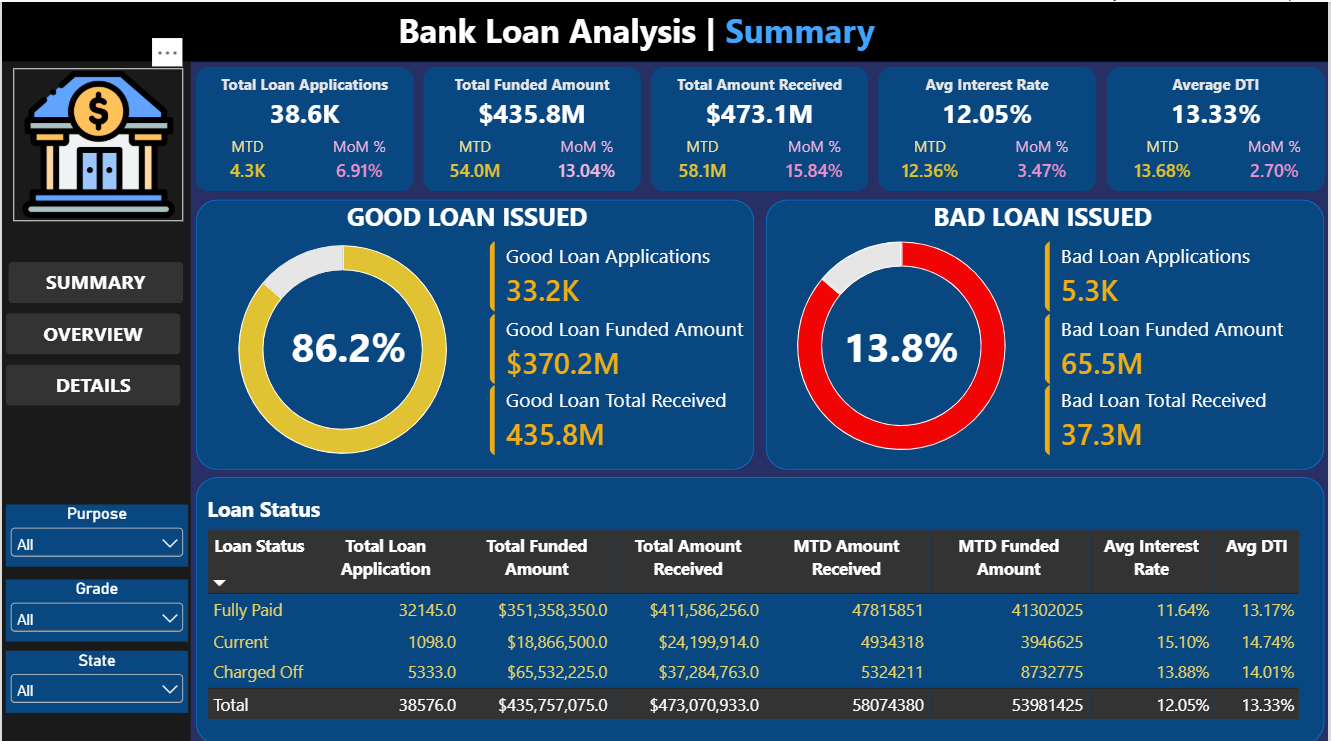

The page's visual inventory and layout, read from the dashboard file:
{"tool":"powerbi","page":{"name":"Summary","canvas":[1280,720],"ordinal":0},"visuals":[{"type":"shape","box":[0,0,1280.3,57.6],"z":0},{"type":"textbox","box":[382.4,4.8,639.4,48.3],"z":1000},{"type":"shape","box":[0,57.9,182.2,662.3],"z":2000},{"type":"cardVisual","title":"Total Loan Applications","fields":{"Data":["Date Table.Total Loan Application"]},"box":[187,63,210,120],"z":3000},{"type":"cardVisual","title":"Total Loan Applications","fields":{"Data":["Date Table.Total Funded Amount"]},"box":[407,63,210,120],"z":4000},{"type":"cardVisual","title":"Total Loan Applications","fields":{"Data":["Date Table.Average DTI"]},"box":[1067,63,210,120],"z":5000},{"type":"cardVisual","title":"Total Loan Applications","fields":{"Data":["Date Table.Avg Interest Rate"]},"box":[846,63,210,120],"z":6000},{"type":"cardVisual","title":"Total Loan Applications","fields":{"Data":["Date Table.Total Amount Received"]},"box":[626,63,210,120],"z":7000},{"type":"cardVisual","fields":{"Data":["Date Table.MTD Loan Applications","Date Table.Applications MoM %"]},"box":[187,123.1,209.9,57.9],"z":8000},{"type":"cardVisual","fields":{"Data":["Date Table.MTD Funded Amount","Date Table.Funded Amount MoM %"]},"box":[406.6,123.1,209.9,57.9],"z":9000},{"type":"cardVisual","fields":{"Data":["Date Table.MTD Amount Received","Date Table.Amount Received MoM %"]},"box":[626.1,123.1,209.9,57.9],"z":10000},{"type":"cardVisual","fields":{"Data":["Date Table.MTD Average Interest Rate","Date Table.Interest Rate MoM %"]},"box":[845.7,123.1,209.9,57.9],"z":11000},{"type":"cardVisual","fields":{"Data":["Date Table.MTD Average DTI","Date Table.DTI MoM %"]},"box":[1070.1,123.1,209.9,57.9],"z":12000},{"type":"shape","box":[187,190.6,539,261],"z":13000},{"type":"shape","box":[737.1,190.6,539,261],"z":14000},{"type":"textbox","box":[333,190.6,246.1,39.8],"z":15000},{"type":"donutChart","fields":{"Category":["Good Loan Donut.Category"],"Y":["Good Loan Donut.Good Loan Donut Value"]},"box":[187,194.2,283.5,283.5],"z":16000},{"type":"cardVisual","fields":{"Data":["Date Table.Good Loan %"]},"box":[243,273,184.6,118.2],"z":17000},{"type":"cardVisual","fields":{"Data":["Date Table.Good Loan Funded Amount"]},"box":[470.5,300.4,270.2,69],"z":18000},{"type":"cardVisual","fields":{"Data":["Date Table.Good Loan Applications"]},"box":[470.9,231,270.2,69],"z":19000},{"type":"cardVisual","fields":{"Data":["Date Table.Good Loan Total Received"]},"box":[470.5,369.2,270.2,69],"z":20000},{"type":"textbox","box":[898.8,190.6,246.1,39.8],"z":21000},{"type":"donutChart","fields":{"Category":["Bad Loan Donut.Category"],"Y":["Bad Loan Donut.Bad Loan Donut Value"]},"box":[726.3,190.6,283.5,283.5],"z":22000},{"type":"cardVisual","fields":{"Data":["Date Table.Bad Loan %"]},"box":[775.7,273,184.6,118.2],"z":23000},{"type":"cardVisual","fields":{"Data":["Date Table.Bad Loan Total Received"]},"box":[1006.2,369.2,270.2,69],"z":24000},{"type":"cardVisual","fields":{"Data":["Date Table.Bad Loan Funded Amount"]},"box":[1006.2,300,270.2,69],"z":25000},{"type":"cardVisual","fields":{"Data":["Date Table.Bad Loan Applications"]},"box":[1006.2,231,270.2,69],"z":26000},{"type":"shape","box":[187,458.4,1089.4,258],"z":27000},{"type":"tableEx","title":"Loan Status","fields":{"Values":["public financial_loan.loan_status","Date Table.Total Loan Application","Date Table.Total Funded Amount","Date Table.Total Amount Received","public financial_loan.Total MTD Amount Received","public financial_loan.Total MTD Funded Amount","Date Table.Avg Interest Rate","Date Table.Average DTI"]},"box":[182.2,460.9,1089.4,252.1],"z":28000},{"type":"actionButton","title":"SUMMARY","box":[6.3,250.7,168.9,39.8],"z":29000},{"type":"slicer","title":"Purpose","fields":{"Values":["public financial_loan.purpose"]},"box":[3.6,484.5,176.1,60.3],"z":30000},{"type":"slicer","title":"Grade","fields":{"Values":["public financial_loan.grade"]},"box":[3.6,557.4,176.1,60.3],"z":31000},{"type":"slicer","title":"State","fields":{"Values":["public financial_loan.address_state"]},"box":[3.6,626.1,176.1,60],"z":32000},{"type":"image","box":[10.9,63.9,164.1,147.2],"z":33000},{"type":"actionButton","title":"SUMMARY","box":[3.6,300.4,168.9,39.8],"z":34000},{"type":"actionButton","title":"SUMMARY","box":[3.6,349.9,168.9,39.8],"z":35000}]}

Visuals, with their boxes in screenshot pixels (x1, y1, x2, y2), scaled from the page's 1280x720 canvas onto the 1331x741 screenshot:
shape: (0,0,1330,59)
textbox: (398,5,1063,55)
shape: (0,60,189,740)
"Total Loan Applications" cardVisual: (194,65,413,188)
"Total Loan Applications" cardVisual: (423,65,642,188)
"Total Loan Applications" cardVisual: (1110,65,1328,188)
"Total Loan Applications" cardVisual: (880,65,1098,188)
"Total Loan Applications" cardVisual: (651,65,869,188)
cardVisual - Date Table.MTD Loan Applications x Date Table.Applications MoM %: (194,127,413,186)
cardVisual - Date Table.MTD Funded Amount x Date Table.Funded Amount MoM %: (423,127,641,186)
cardVisual - Date Table.MTD Amount Received x Date Table.Amount Received MoM %: (651,127,869,186)
cardVisual - Date Table.MTD Average Interest Rate x Date Table.Interest Rate MoM %: (879,127,1098,186)
cardVisual - Date Table.MTD Average DTI x Date Table.DTI MoM %: (1113,127,1330,186)
shape: (194,196,755,465)
shape: (766,196,1327,465)
textbox: (346,196,602,237)
donutChart - Good Loan Donut.Category x Good Loan Donut.Good Loan Donut Value: (194,200,489,492)
cardVisual - Date Table.Good Loan %: (253,281,445,403)
cardVisual - Date Table.Good Loan Funded Amount: (489,309,770,380)
cardVisual - Date Table.Good Loan Applications: (490,238,771,309)
cardVisual - Date Table.Good Loan Total Received: (489,380,770,451)
textbox: (935,196,1191,237)
donutChart - Bad Loan Donut.Category x Bad Loan Donut.Bad Loan Donut Value: (755,196,1050,488)
cardVisual - Date Table.Bad Loan %: (807,281,999,403)
cardVisual - Date Table.Bad Loan Total Received: (1046,380,1327,451)
cardVisual - Date Table.Bad Loan Funded Amount: (1046,309,1327,380)
cardVisual - Date Table.Bad Loan Applications: (1046,238,1327,309)
shape: (194,472,1327,737)
"Loan Status" tableEx: (189,474,1322,734)
"SUMMARY" actionButton: (7,258,182,299)
"Purpose" slicer: (4,499,187,561)
"Grade" slicer: (4,574,187,636)
"State" slicer: (4,644,187,706)
image: (11,66,182,217)
"SUMMARY" actionButton: (4,309,179,350)
"SUMMARY" actionButton: (4,360,179,401)
